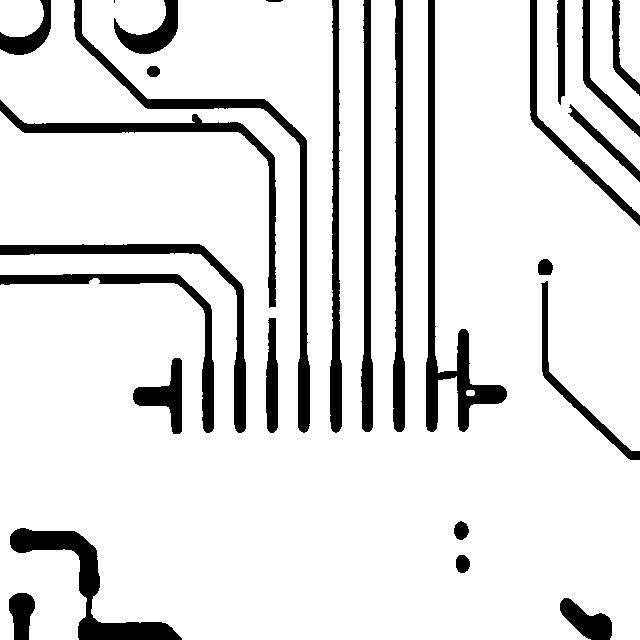copper: (137, 56, 169, 86)
mousebite: (79, 268, 109, 294)
open: (253, 297, 290, 327), (551, 86, 581, 122), (524, 265, 560, 293)
pin-hole: (456, 380, 484, 405)
short: (424, 361, 468, 389), (76, 583, 102, 629)
spur: (182, 104, 211, 133)
